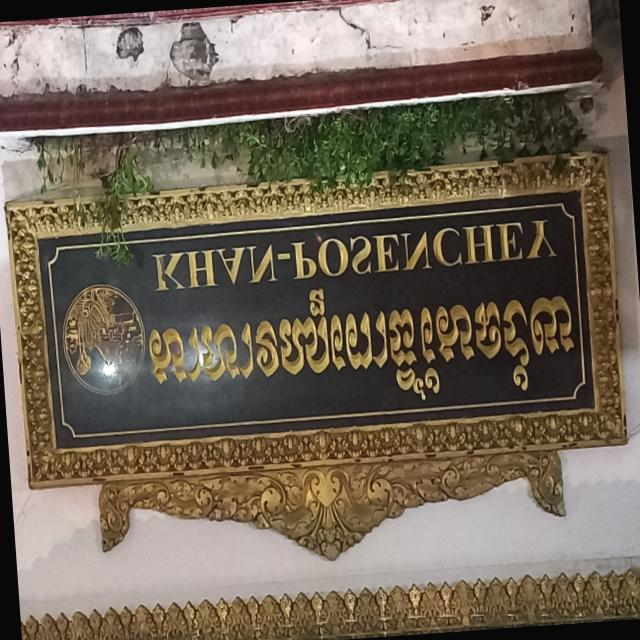Yolov11_80vkh: (144, 264, 581, 420)
